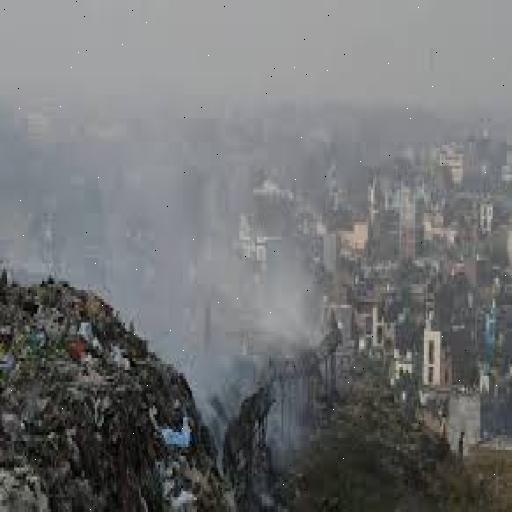smoke: (134, 198, 346, 438)
